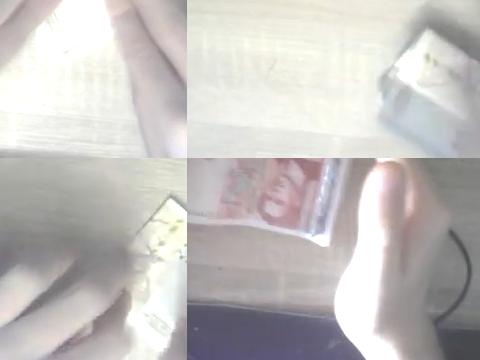10leva: (378, 27, 480, 158), (130, 195, 187, 352), (37, 0, 110, 62)
5leva: (187, 158, 354, 246)
